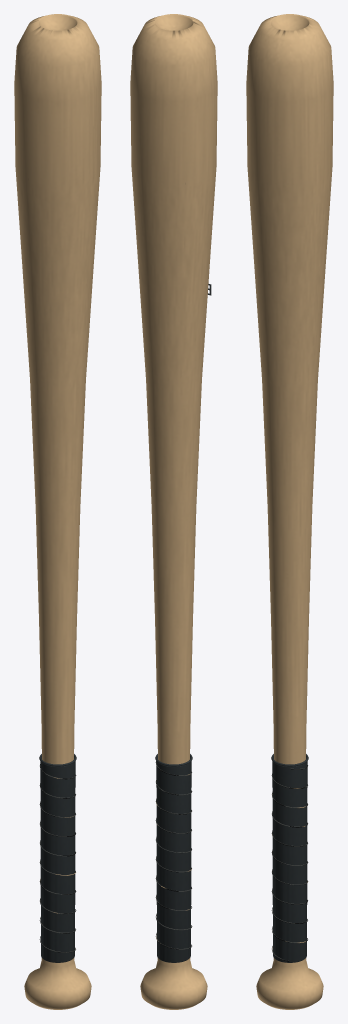
The model's file is bat.glb.
3 views of the same model, side by side, from view 1: azimuth 90°, elevation 25°; view 2: azimuth 150°, elevation 25°; view 3: azimuth 270°, elevation 25° (orthographic).
Visible parts, largest first — view 1: bat; view 2: bat; view 3: bat.
Part boxes in pixels (bbox=[...]): bat: bbox=[14, 14, 101, 1009]; bat: bbox=[130, 14, 217, 1009]; bat: bbox=[246, 14, 333, 1009].
Bounding box in the file's own units: 0.078 × 0.9619 × 0.078.
4 materials, 4 textured.
